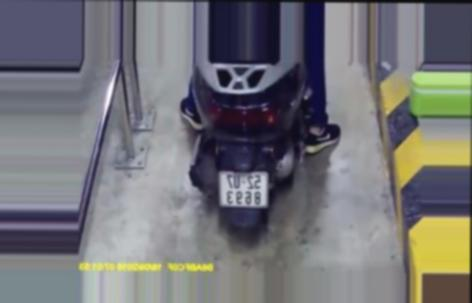License_Plate: (214, 168, 273, 214)
